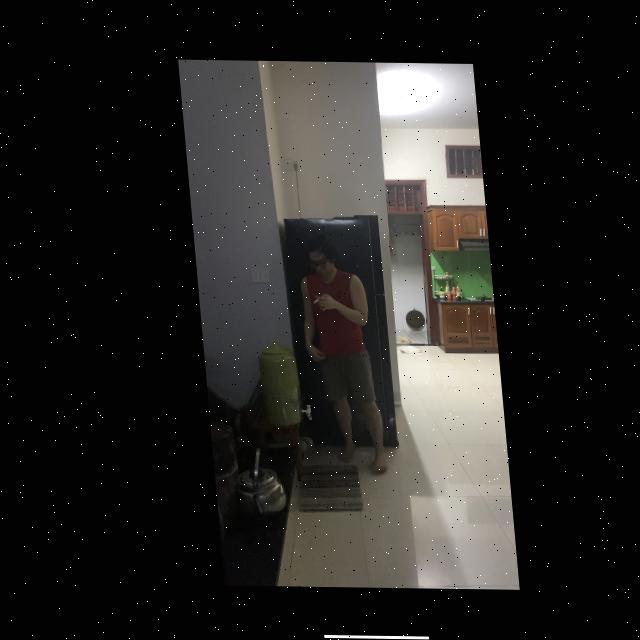cigarette: (307, 298, 313, 303)
